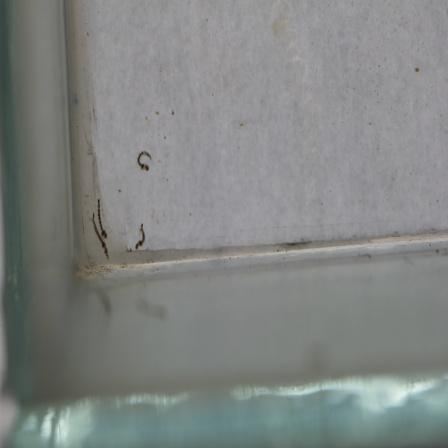Jentik-Nyamuk: (87, 195, 111, 259), (135, 147, 155, 173), (132, 219, 147, 251)
